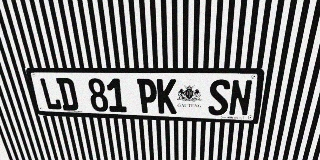1: (105, 78, 127, 112)
8: (87, 78, 109, 112)
D: (56, 78, 79, 111)
K: (157, 79, 177, 114)
L: (39, 78, 63, 110)
N: (228, 79, 253, 116)
P: (137, 79, 158, 113)
S: (208, 79, 231, 116)
